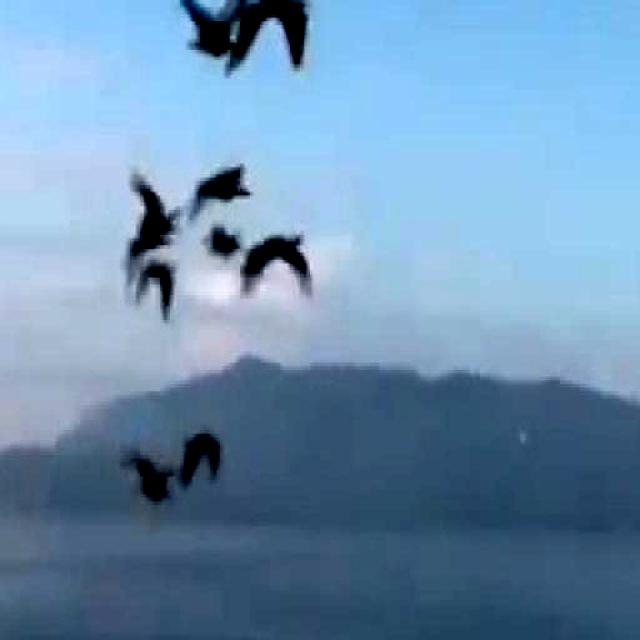airplane: (225, 0, 309, 85), (239, 225, 316, 302), (175, 0, 251, 78), (122, 159, 182, 254), (118, 441, 178, 512), (186, 158, 254, 219), (175, 424, 224, 489), (134, 260, 175, 319), (198, 221, 246, 262)
